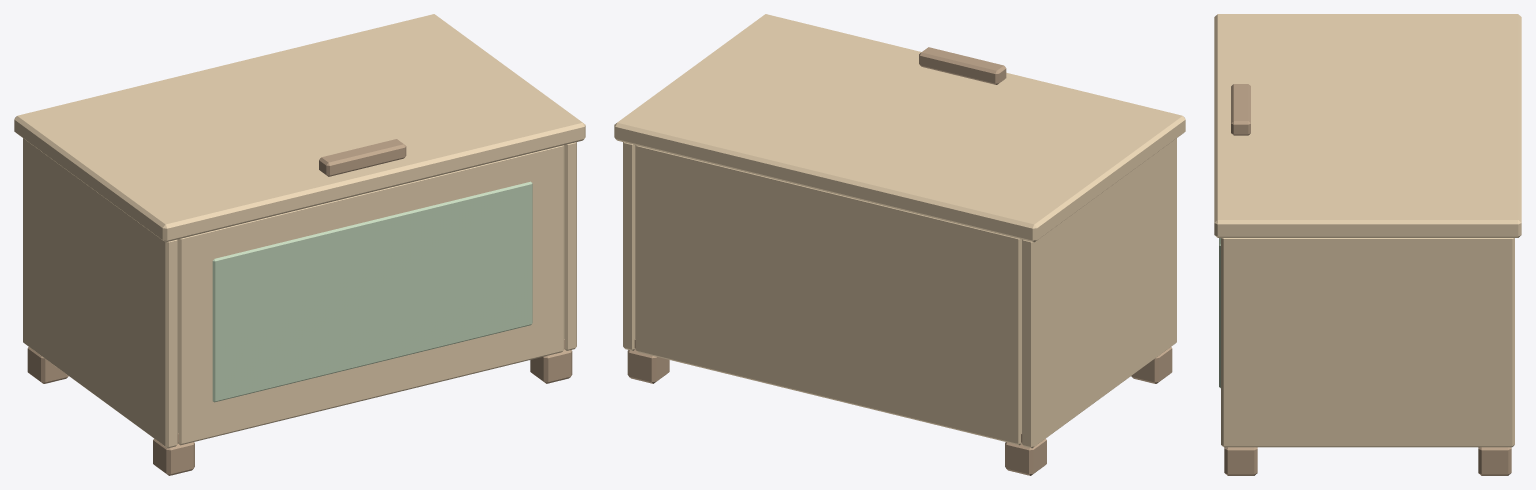
Rendered from jelly-friends-playroom-toy-box-oak-edb8374e__27641.glb.
3 renders of one model, left to right at view 1: azimuth 30°, elevation 25°; view 2: azimuth 150°, elevation 25°; view 3: azimuth 270°, elevation 25°, orthographic.
Visible parts, largest first — view 1: toy-box-oak, lid/oak, lid/oakDark; view 2: toy-box-oak, lid/oak, lid/oakDark; view 3: lid/oak, toy-box-oak, lid/oakDark.
Boxes of the visible parts, x1=… form: toy-box-oak: x1=23, y1=138, x2=576, y2=475; lid/oak: x1=14, y1=14, x2=585, y2=242; lid/oakDark: x1=319, y1=139, x2=406, y2=176; toy-box-oak: x1=623, y1=138, x2=1176, y2=475; lid/oak: x1=614, y1=14, x2=1185, y2=242; lid/oakDark: x1=919, y1=47, x2=1006, y2=84; lid/oak: x1=1214, y1=14, x2=1521, y2=237; toy-box-oak: x1=1219, y1=238, x2=1514, y2=475; lid/oakDark: x1=1231, y1=84, x2=1250, y2=135.
Bounding box in the file's own units: 0.74 × 0.454 × 0.46.
